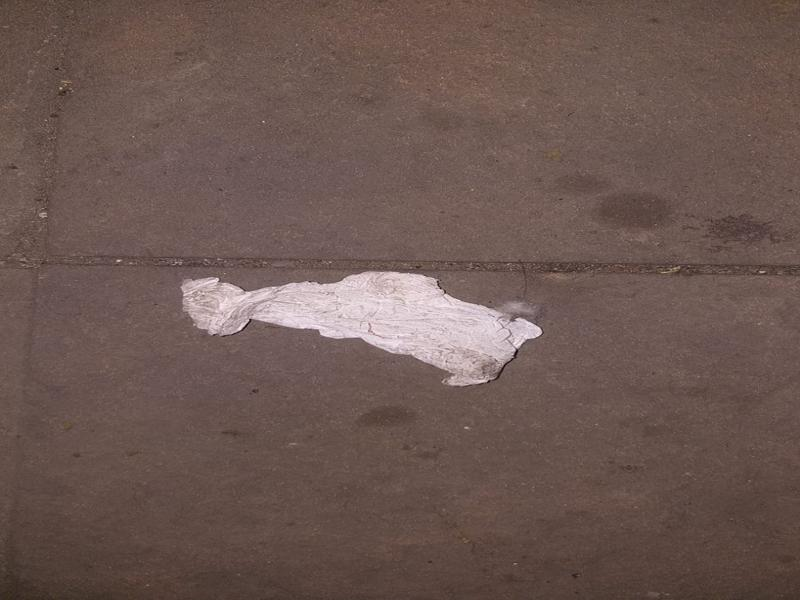papel: (180, 272, 543, 390)
